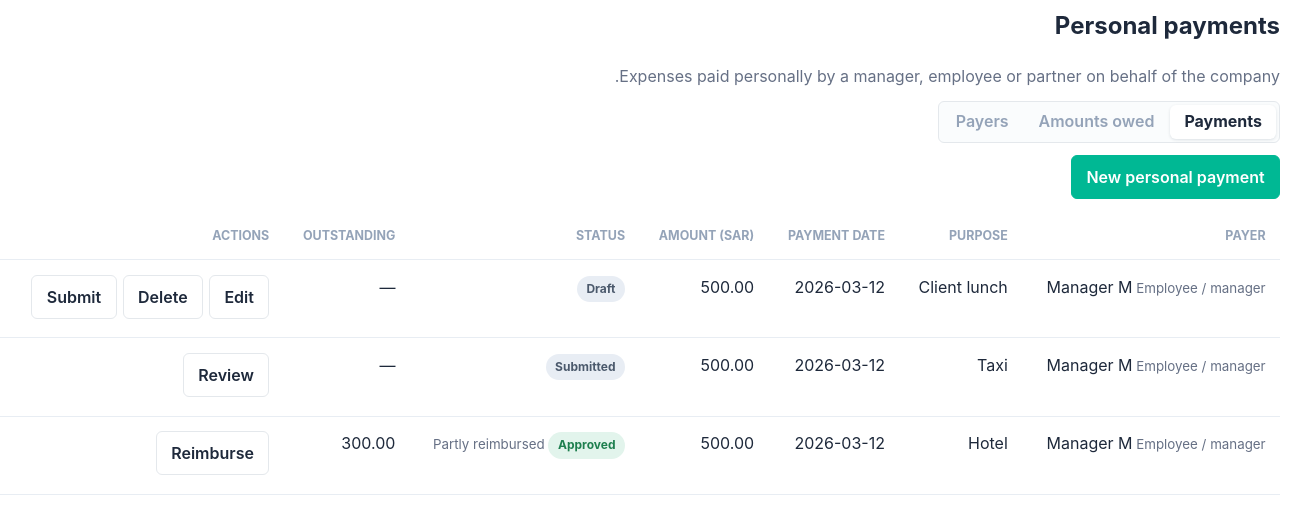
PersonalPayments › shows reimbursement balances and amounts owed
The width and height of the screenshot is (1292, 512).
Expected: the text "Hotel" is shown, 899,416 -> 1022,494
Expected: the text "Partly reimbursed" is shown, 433,436 -> 548,452
What coordinates should you click on to do the following:
click the tab "Amounts owed"
I would click on:
 (1096, 122)
Its box is 1024,105 -> 1168,139.
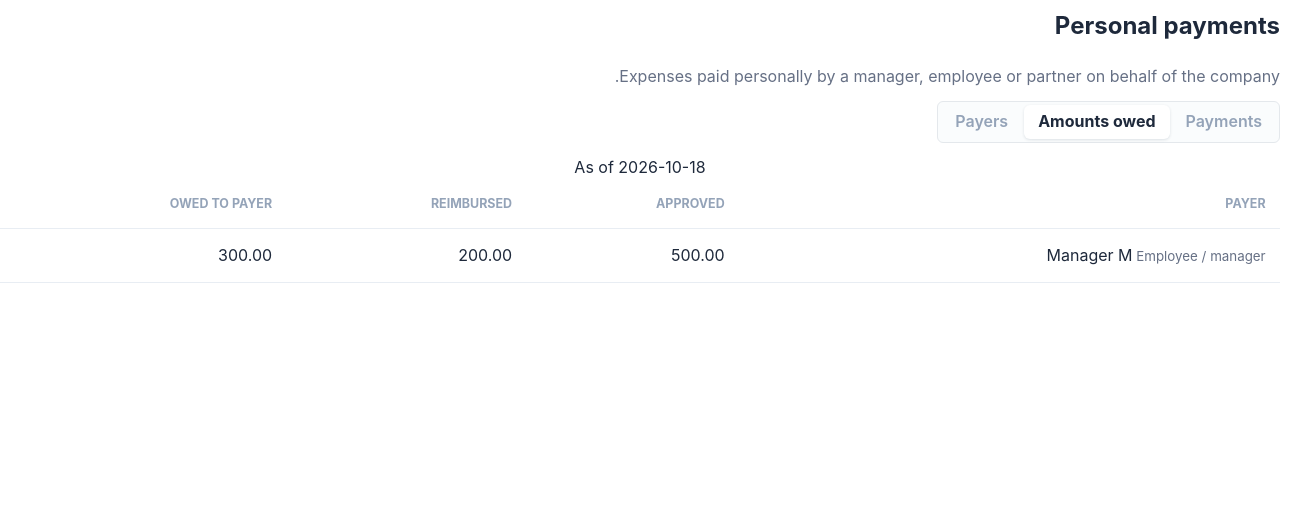
Result: the text "As of 2026-10-18" is shown at 574,157 -> 706,177
